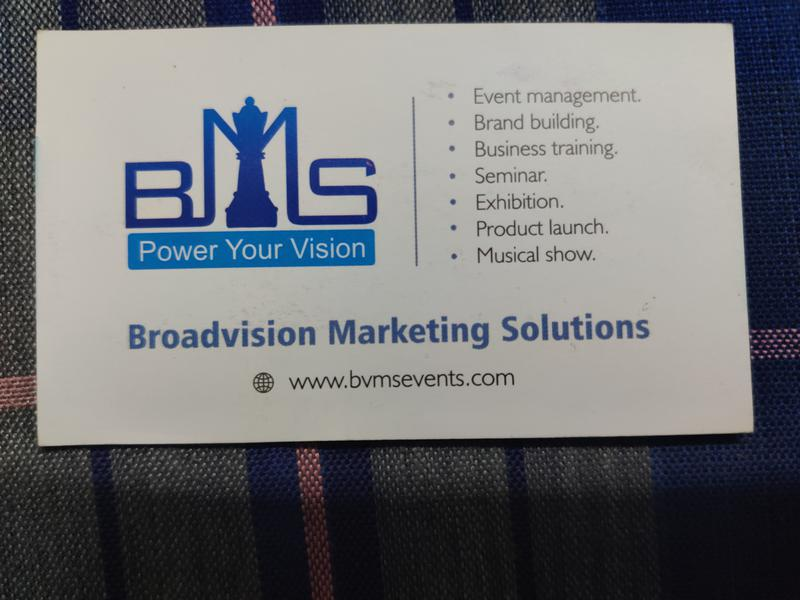card: (38, 23, 755, 443)
